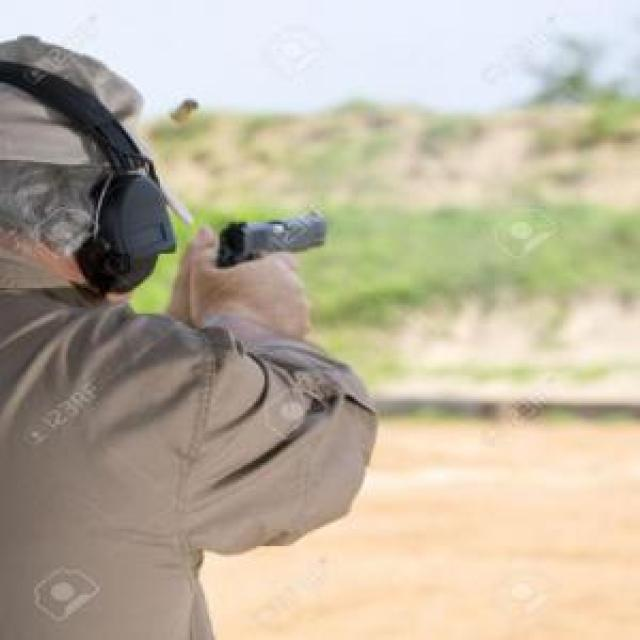pistol: (207, 205, 339, 272)
